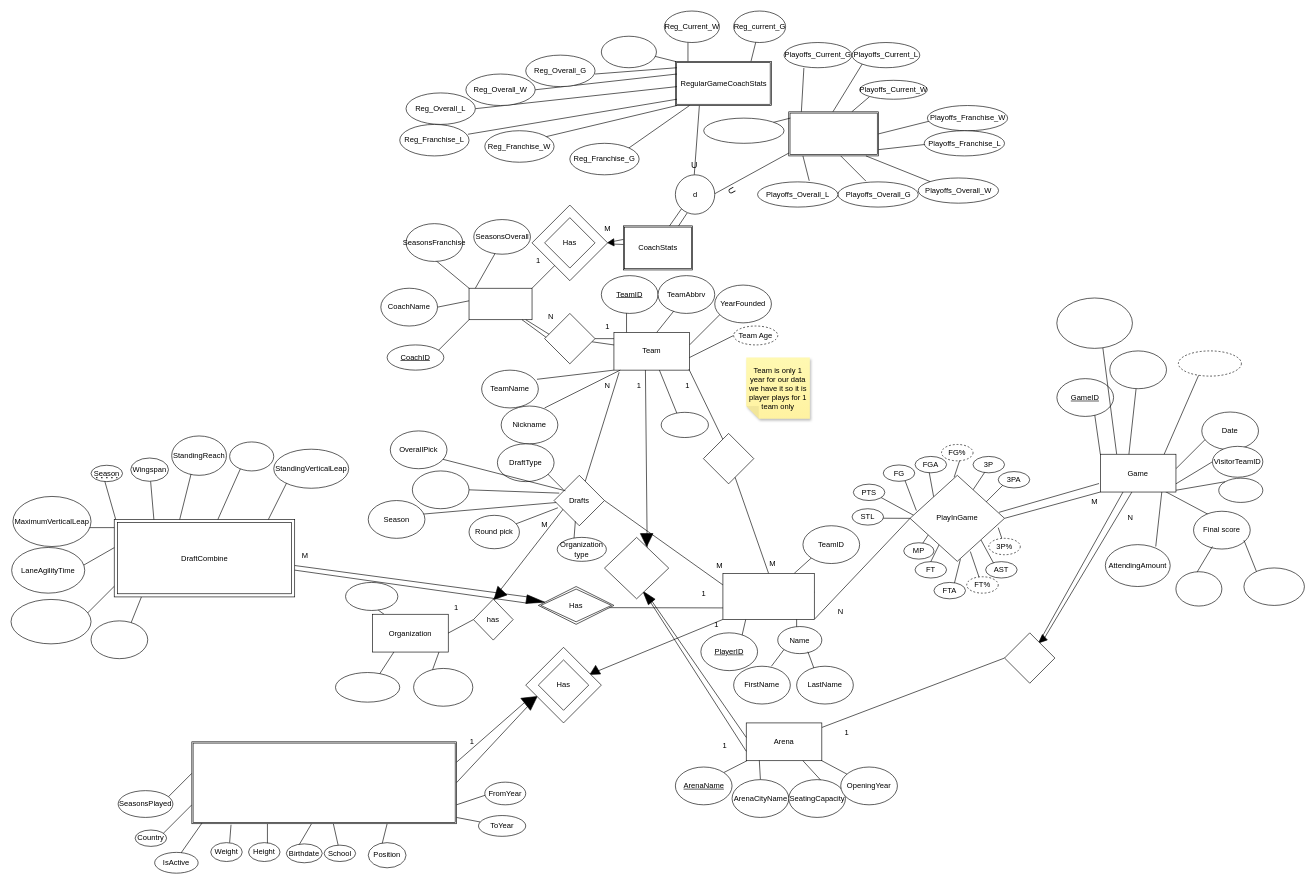
Image size: 1315x885. Some labels were removed from this diagram. Here are the shapes that lost their labels. From the top down, the centre of each, then its label:
the point at 628,52: Reg_Current_L
the point at 743,130: Playoffs_Franchise_G
the point at 833,133: PlayoffGameCoachStats
the point at 500,304: Coach
the point at 1094,322: Overtime
the point at 569,338: Instructs
the point at 1138,369: Length
the point at 1209,363: Result for home team
the point at 684,425: State
the point at 251,456: BodyFatPct
the point at 728,458: PlayOnTeam
the point at 440,489: RoundNumber
the point at 1240,490: HomeTeamID
the point at 636,568: HasHomeArena
the point at 1198,588: HomePTS
the point at 1273,586: Visitor PTS
the point at 371,596: OrganizationID
the point at 768,596: Player
the point at 50,621: ThreeQuarterSprint
the point at 119,639: BenchPress
the point at 1029,657: Hosts
the point at 367,687: OrganizationName
the point at 443,687: OrganizationType
the point at 323,782: PlayerInformation
